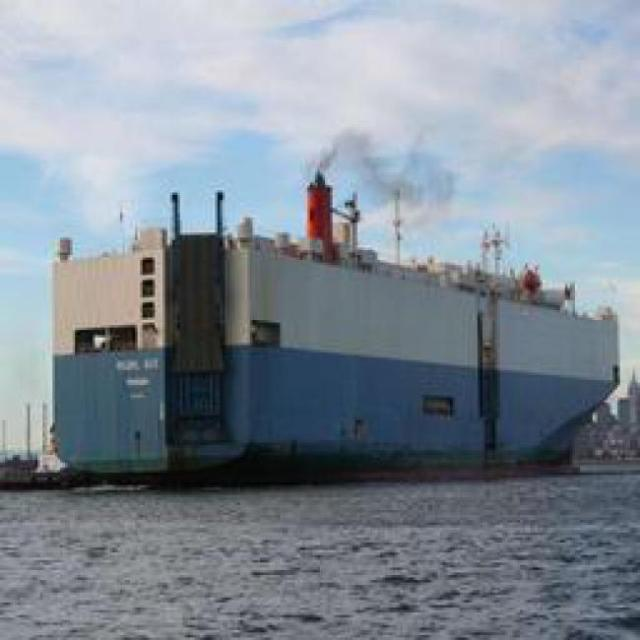boat: (23, 212, 631, 484)
